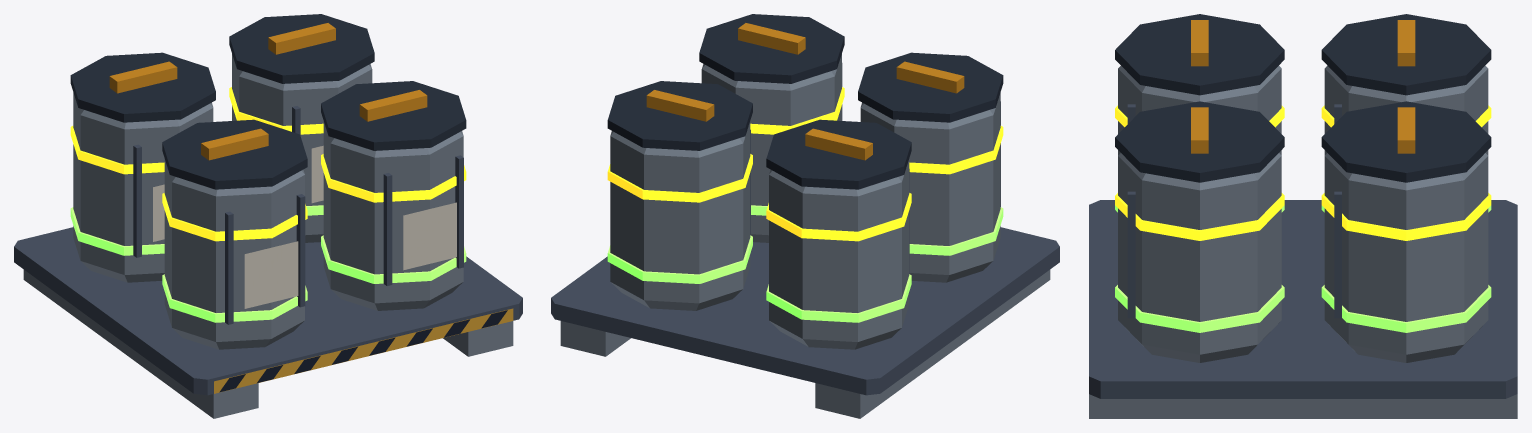
Rendered from fus_tritium_cask_pallet.glb.
3 views of the same model, side by side, from view 1: azimuth 30°, elevation 25°; view 2: azimuth 150°, elevation 25°; view 3: azimuth 270°, elevation 25° (orthographic). The views are drawn at different scales.
Visible parts, largest first — view 1: fork_skid, armor_rib, cask_ring.002, print, lid_lifting_bail, cask_ring.001, cask_ring, warning_band, slash; view 2: fork_skid, cask_ring.002, armor_rib, lid_lifting_bail, cask_ring.001, cask_ring; view 3: fork_skid, armor_rib, cask_ring.002, cask_ring.001, cask_ring, lid_lifting_bail.
Part boxes in pixels (<box>): fork_skid: <box>23,54,513,418</box>; armor_rib: <box>14,106,522,395</box>; cask_ring.002: <box>70,14,466,189</box>; print: <box>153,145,456,308</box>; lid_lifting_bail: <box>109,23,427,160</box>; cask_ring.001: <box>70,87,466,241</box>; cask_ring: <box>70,205,466,322</box>; warning_band: <box>214,308,513,393</box>; slash: <box>219,310,507,392</box>; fork_skid: <box>560,54,1050,418</box>; cask_ring.002: <box>607,14,1003,189</box>; armor_rib: <box>551,63,1059,395</box>; lid_lifting_bail: <box>646,23,964,160</box>; cask_ring.001: <box>607,87,1003,241</box>; cask_ring: <box>607,205,1003,322</box>; fork_skid: <box>1089,65,1517,418</box>; armor_rib: <box>1089,104,1517,398</box>; cask_ring.002: <box>1115,14,1491,182</box>; cask_ring.001: <box>1115,105,1491,240</box>; cask_ring: <box>1115,205,1491,332</box>; lid_lifting_bail: <box>1191,20,1415,153</box>.
Size of the model in its own units: 2.2 by 1.45 by 2.2.
